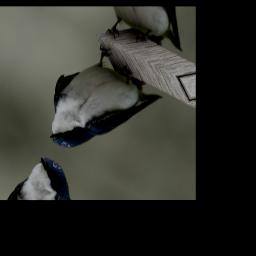Swallow: (34, 30, 171, 181)
